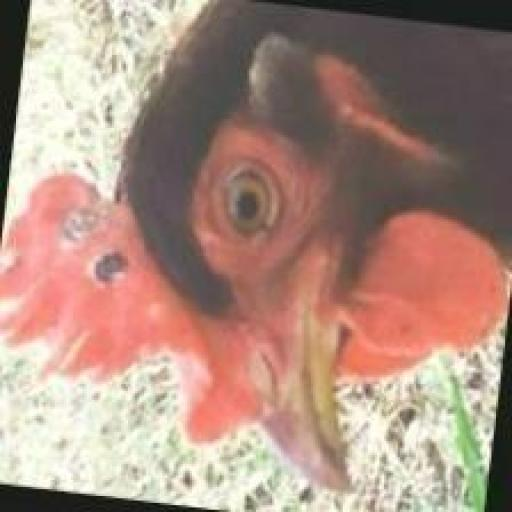disease: (22, 182, 196, 356)
